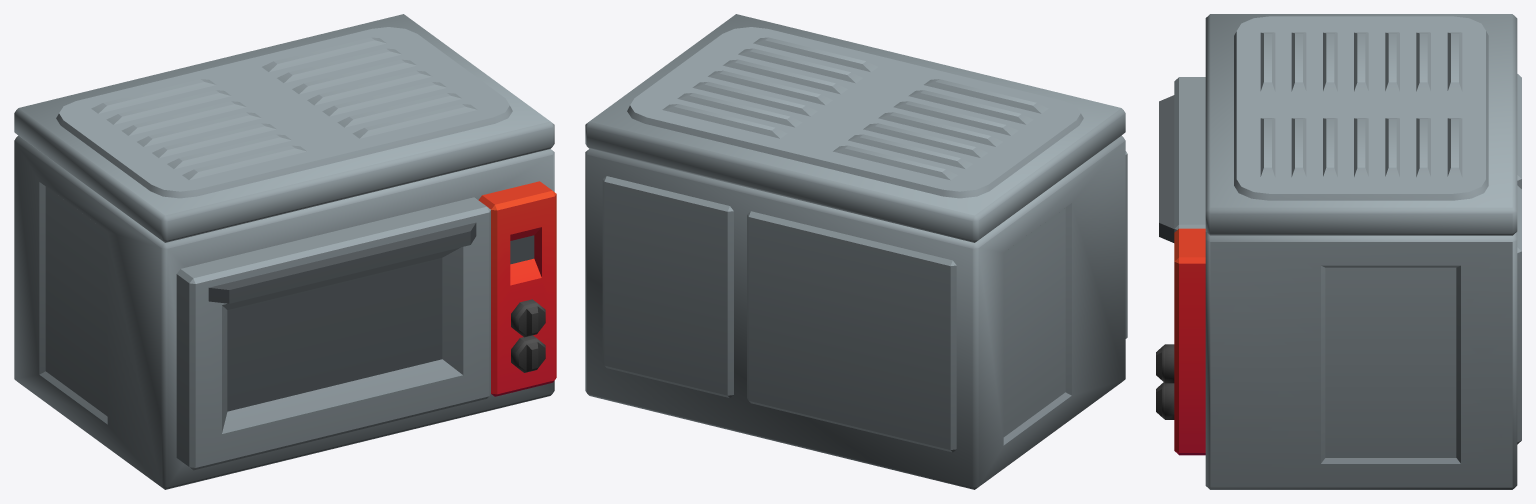
The model's file is pizza_oven.gltf.
3 renders of one model, left to right at view 1: azimuth 30°, elevation 25°; view 2: azimuth 150°, elevation 25°; view 3: azimuth 270°, elevation 25°, orthographic. The views are drawn at different scales.
Parts seen in each view (by area): view 1: pizza_oven, pizza_oven_door; view 2: pizza_oven; view 3: pizza_oven, pizza_oven_door.
Boxes of the visible parts, x1,y1,x2,y2 form: pizza_oven: (14, 14, 556, 489); pizza_oven_door: (176, 197, 490, 470); pizza_oven: (585, 14, 1125, 489); pizza_oven: (1156, 14, 1521, 489); pizza_oven_door: (1159, 77, 1205, 242).
Bounding box in the file's own units: 3 × 2.07 × 2.35.
1 material, 1 textured.
